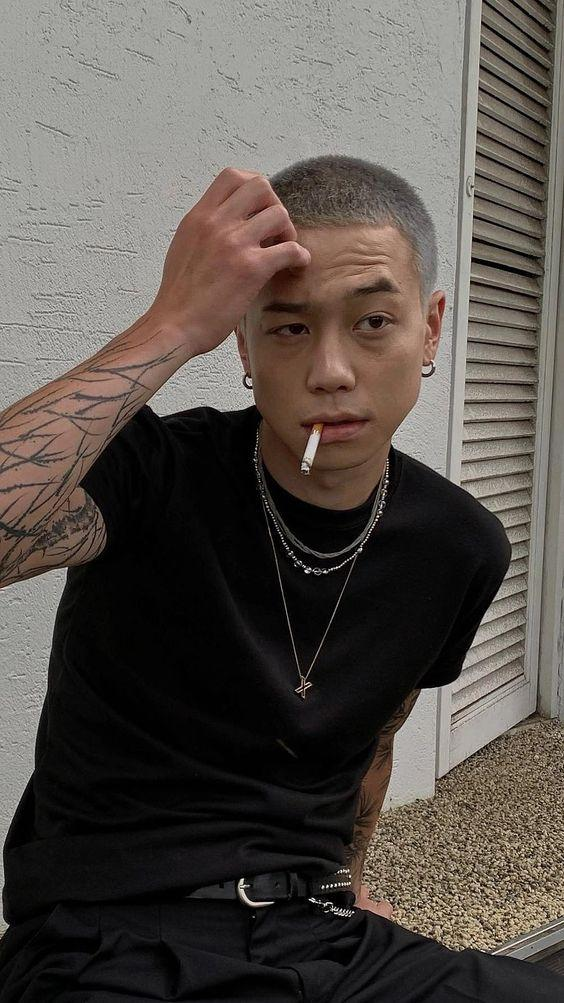cigarette: (301, 423, 325, 475)
